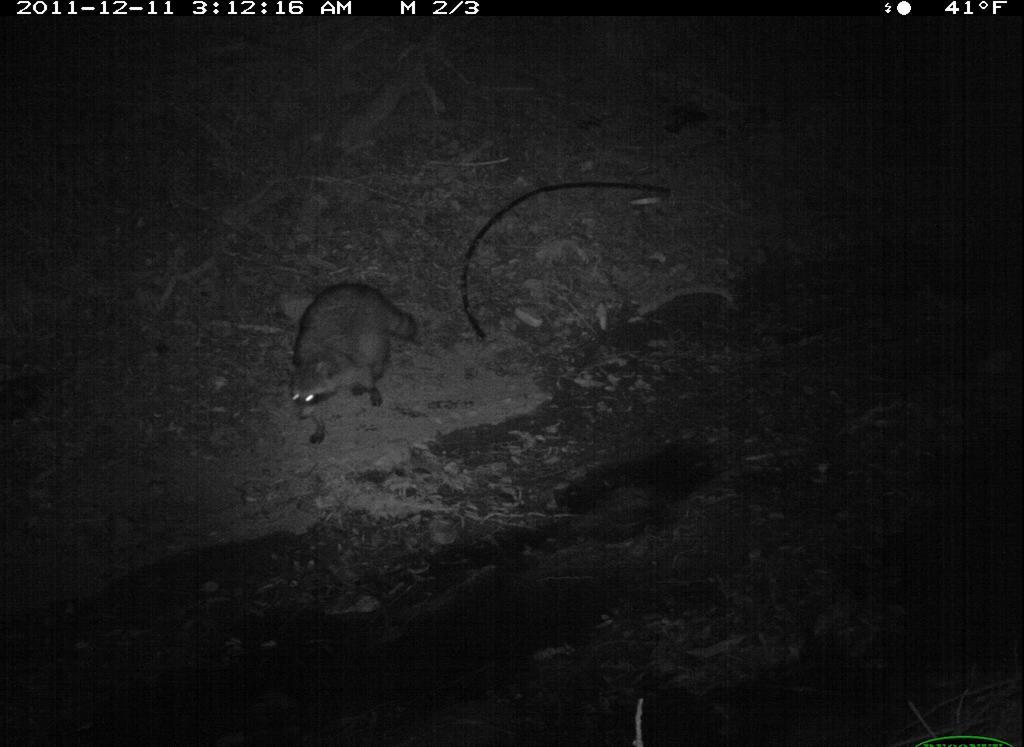raccoon: (276, 264, 433, 429)
